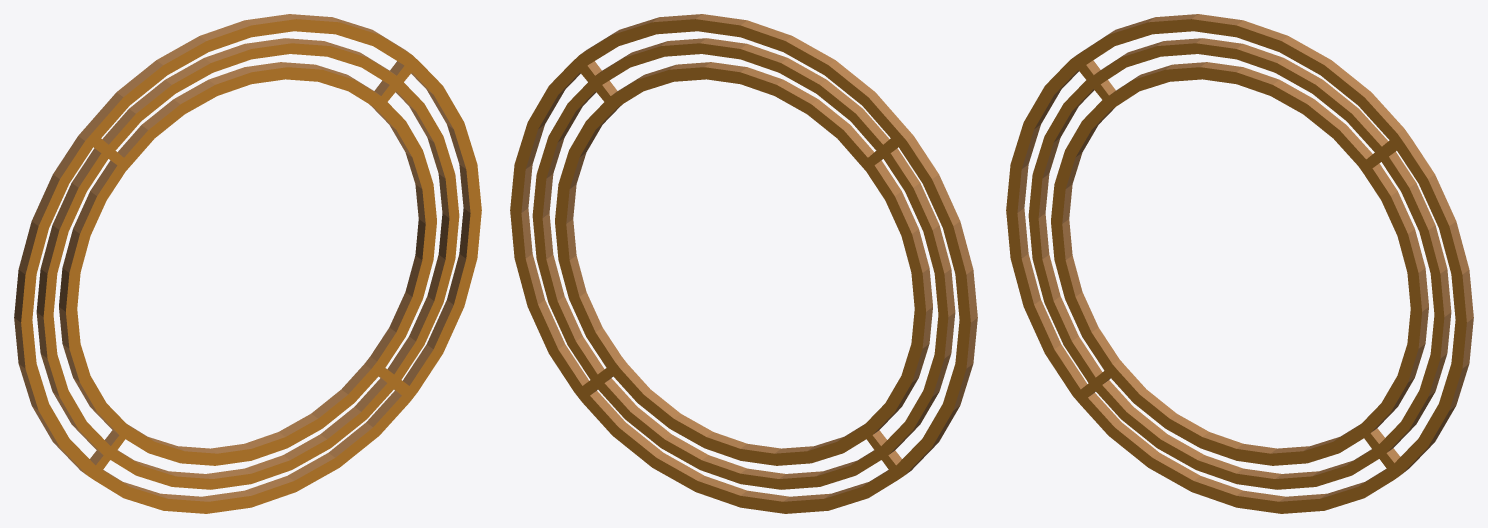
The model's file is HTC_Portal.glb.
3 renders of one model, left to right at view 1: azimuth 30°, elevation 25°; view 2: azimuth 150°, elevation 25°; view 3: azimuth 330°, elevation 25°, orthographic.
Parts seen in each view (by area): view 1: HTC_Portal; view 2: HTC_Portal; view 3: HTC_Portal.
Part boxes in pixels (x1,y1,x2,y2): HTC_Portal: (14,14,481,513); HTC_Portal: (510,14,977,513); HTC_Portal: (1006,14,1473,513).
Size of what is drawn, in the model's own units: 3.51 by 3.51 by 0.0922.
1 material, 1 textured.
